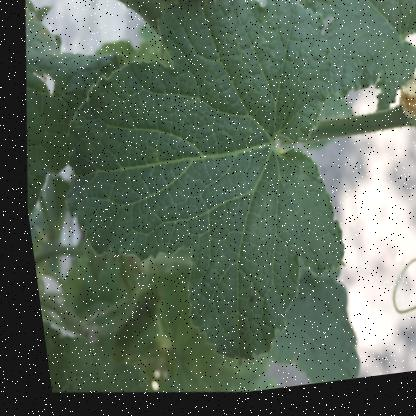Normal: (6, 0, 376, 403)
